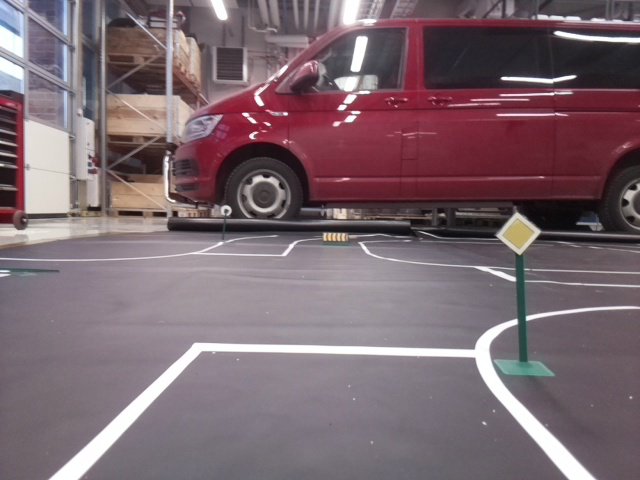Priority: (493, 207, 542, 256)
